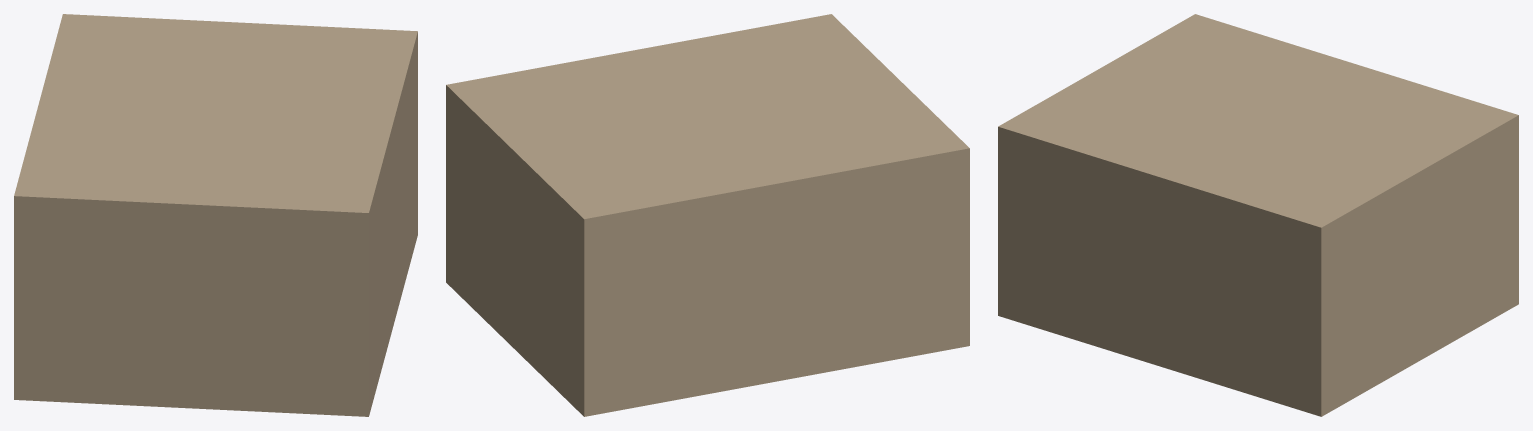
File: bld_55879330.dae
3 views of the same model, side by side, from view 1: azimuth 30°, elevation 25°; view 2: azimuth 150°, elevation 25°; view 3: azimuth 270°, elevation 25° (orthographic). The views are drawn at different scales.
Parts seen in each view (by area): view 1: bld_55879330; view 2: bld_55879330; view 3: bld_55879330.
Part boxes in pixels (left/top/right/bottom): bld_55879330: left=14, top=14, right=417, bottom=416; bld_55879330: left=446, top=14, right=969, bottom=416; bld_55879330: left=998, top=14, right=1518, bottom=416.
Size of the model in its own units: 19.38 by 19.96 by 8.
